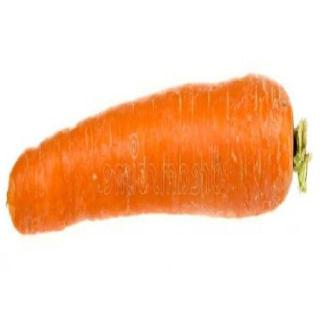carrot: (7, 71, 307, 239)
